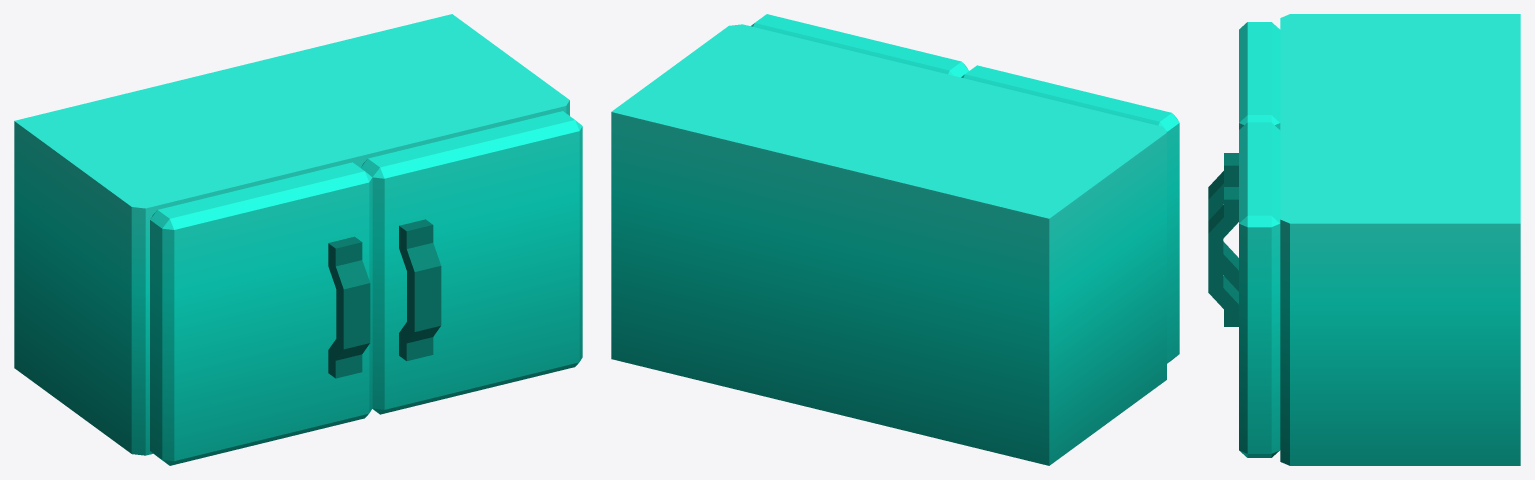
The model's file is Cabinet_01_S_C05.fbx.
The picture shows the model from 3 angles, left to right: view 1: azimuth 30°, elevation 25°; view 2: azimuth 150°, elevation 25°; view 3: azimuth 270°, elevation 25°; orthographic projection.
Visible parts, largest first — view 1: Cabinet_01_S_C05, Cabinet_01_S_C05_Door_R, Cabinet_01_S_C05_Door_L; view 2: Cabinet_01_S_C05, Cabinet_01_S_C05_Door_R, Cabinet_01_S_C05_Door_L; view 3: Cabinet_01_S_C05, Cabinet_01_S_C05_Door_L, Cabinet_01_S_C05_Door_R.
Boxes of the visible parts, x1,y1,x2,y2 form: Cabinet_01_S_C05: (14, 14, 569, 455); Cabinet_01_S_C05_Door_R: (150, 162, 372, 465); Cabinet_01_S_C05_Door_L: (361, 111, 582, 414); Cabinet_01_S_C05: (611, 24, 1166, 465); Cabinet_01_S_C05_Door_R: (961, 65, 1179, 363); Cabinet_01_S_C05_Door_L: (751, 14, 968, 77); Cabinet_01_S_C05: (1280, 14, 1520, 465); Cabinet_01_S_C05_Door_L: (1208, 122, 1280, 457); Cabinet_01_S_C05_Door_R: (1208, 22, 1280, 291).
Bounding box in the file's own units: 100 × 53.91 × 62.96.
